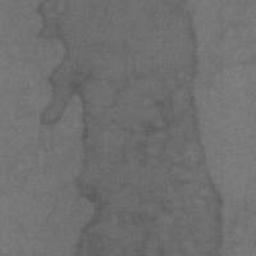Water spot: (37, 0, 225, 256)
